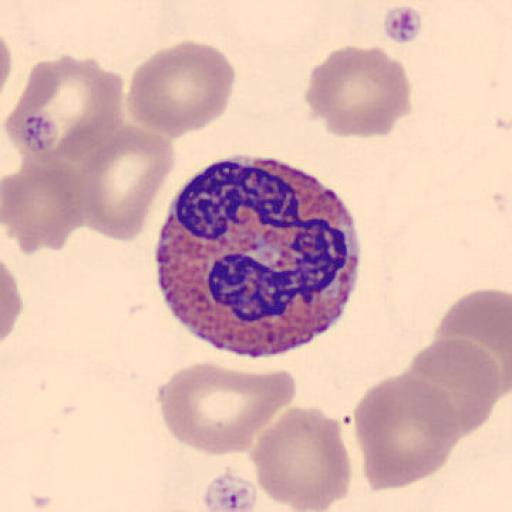RBC: (8, 53, 126, 178), (156, 359, 298, 458), (352, 371, 462, 492), (71, 122, 176, 242), (125, 39, 236, 140), (249, 404, 353, 511), (304, 43, 412, 140), (405, 336, 502, 436), (432, 286, 512, 402), (3, 155, 87, 254), (0, 226, 23, 345), (0, 256, 24, 348), (0, 28, 13, 104)
WBC: (154, 156, 362, 357)
